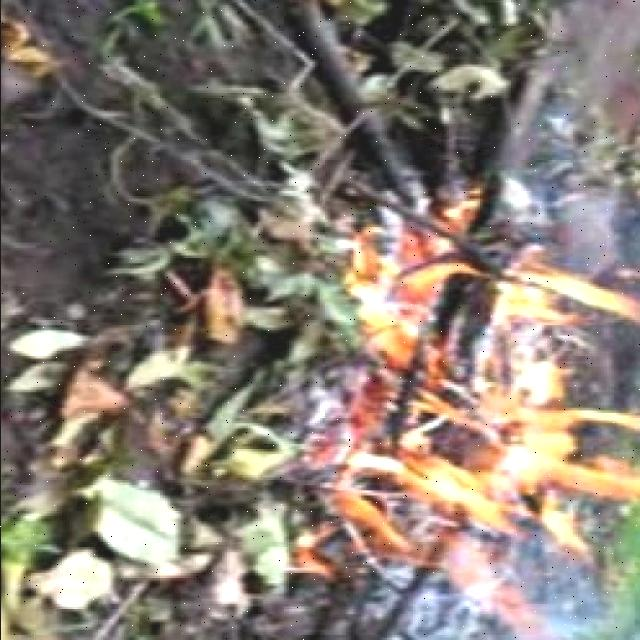fire: (328, 375, 640, 561), (371, 240, 634, 416)
